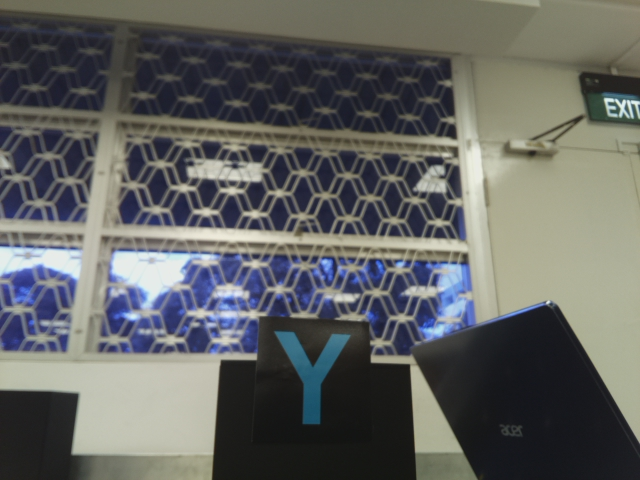y: (272, 331, 354, 431)
